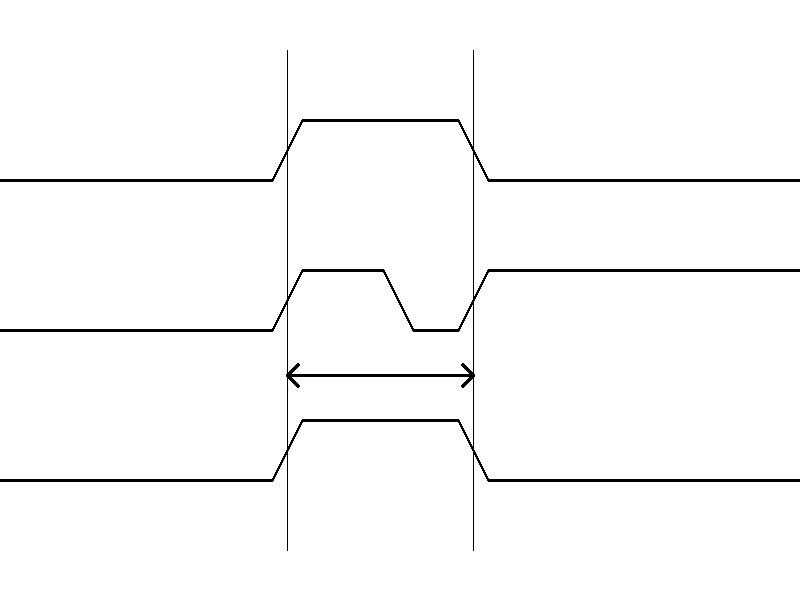double_arrow: (287, 360, 473, 390)
